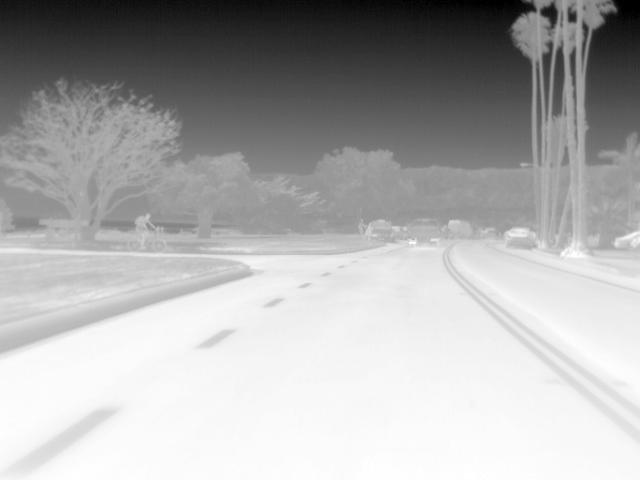car: (408, 218, 444, 248), (365, 218, 396, 246), (505, 227, 534, 251), (446, 218, 477, 240), (614, 228, 637, 250)
person: (133, 212, 162, 252)
